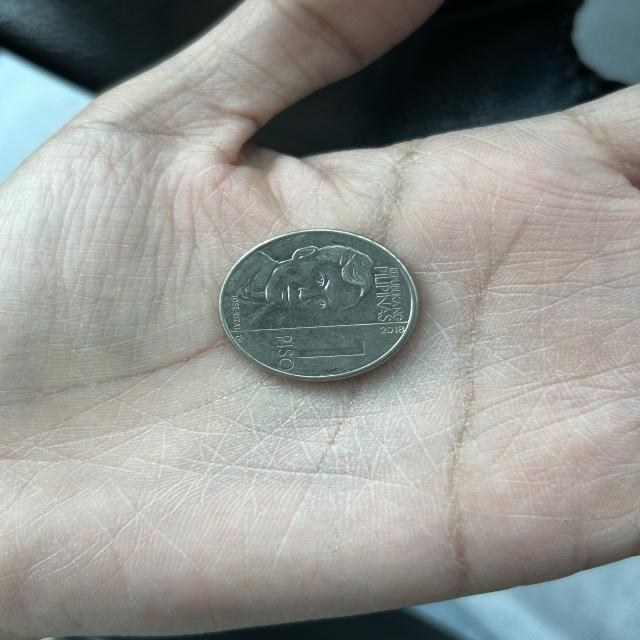1_New_Front: (269, 327, 368, 372)
